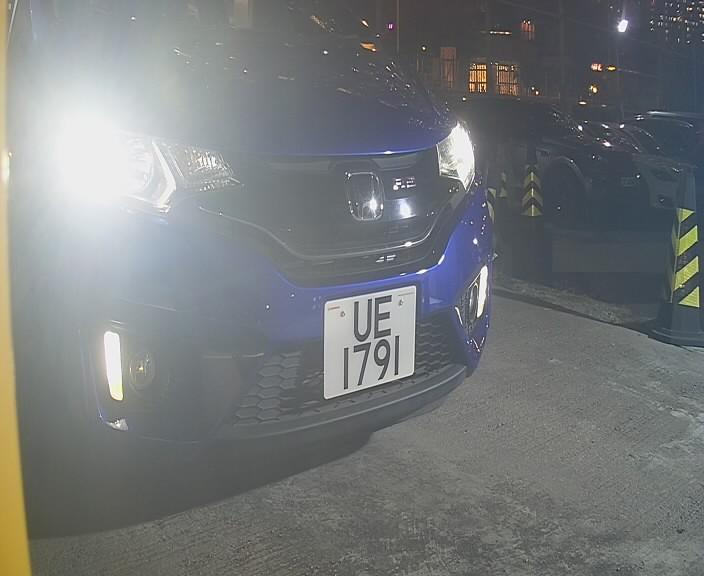privatecar: (4, 1, 519, 505)
